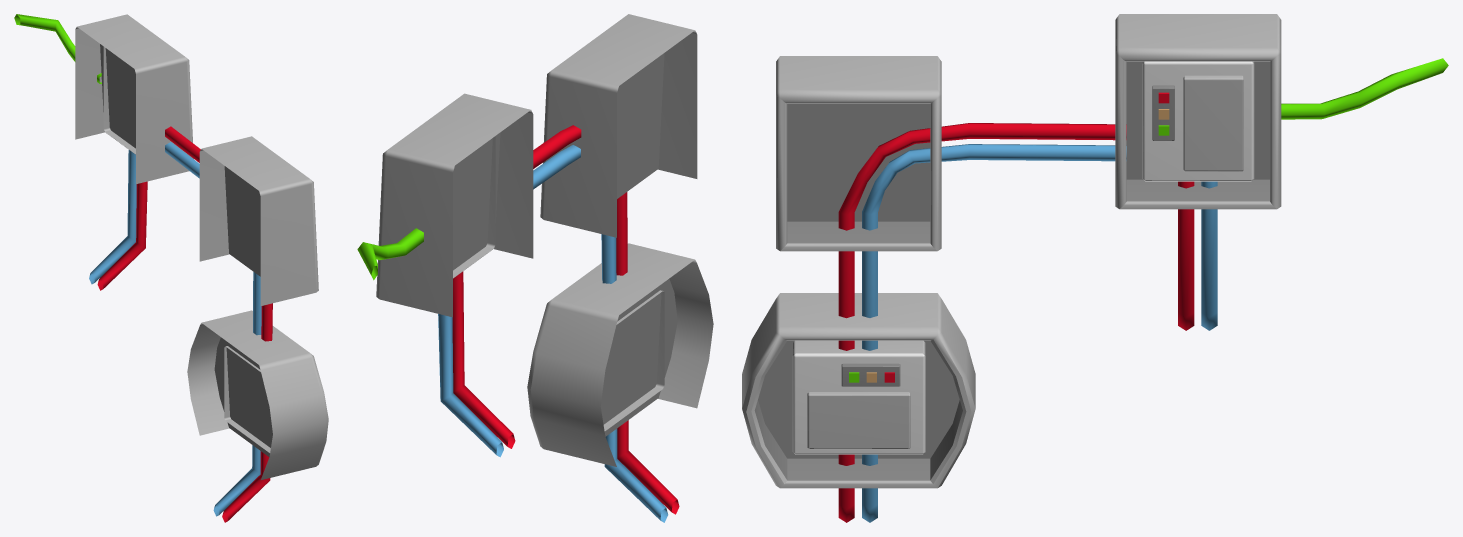
Rendered from Appareil2.fbx.
The picture shows the model from 3 angles, left to right: view 1: azimuth 30°, elevation 25°; view 2: azimuth 150°, elevation 25°; view 3: azimuth 270°, elevation 25°; orthographic projection. The views are drawn at different scales.
Visible parts, largest first — view 1: Appareil1, Cage2, Cage, Rope1, Rope2, Appareil2; view 2: Appareil1, Cage2, Cage, Rope2, Rope1, Appareil2; view 3: Appareil1, Cage, Cage2, Appareil2, Rope2, Rope1.
Boxes of the visible parts, box(x1,y1,x2,y2) form: Appareil1: box(14, 14, 193, 290); Cage2: box(187, 310, 328, 479); Cage: box(199, 136, 318, 305); Rope1: box(165, 142, 261, 516); Rope2: box(165, 126, 272, 522); Appareil2: box(224, 346, 270, 452); Appareil1: box(357, 93, 533, 457); Cage2: box(527, 243, 713, 466); Cage: box(540, 14, 697, 237); Rope2: box(533, 125, 679, 514); Rope1: box(533, 145, 668, 522); Appareil2: box(603, 290, 664, 431); Appareil1: box(1115, 14, 1448, 330); Cage: box(776, 56, 941, 251); Cage2: box(742, 293, 975, 488); Appareil2: box(792, 340, 925, 454); Rope2: box(838, 123, 1126, 522); Rope1: box(862, 144, 1126, 522).
Bounding box in the file's own units: 0.5668 × 2.95 × 3.66.
